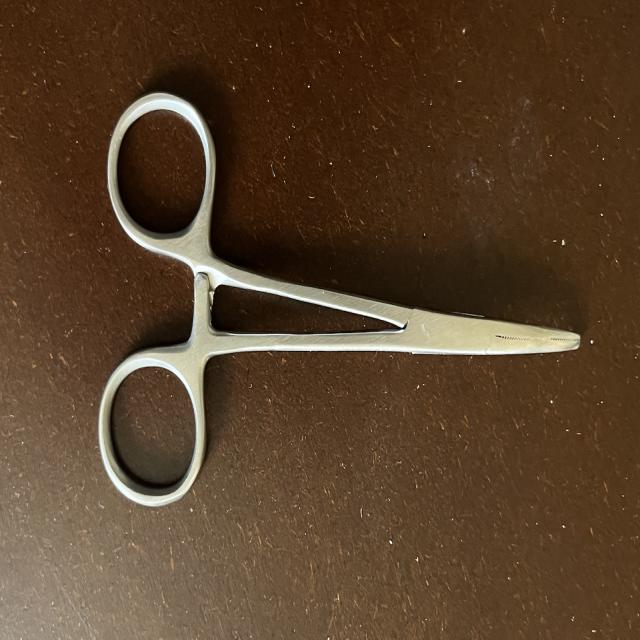scissor: (94, 82, 586, 514)
